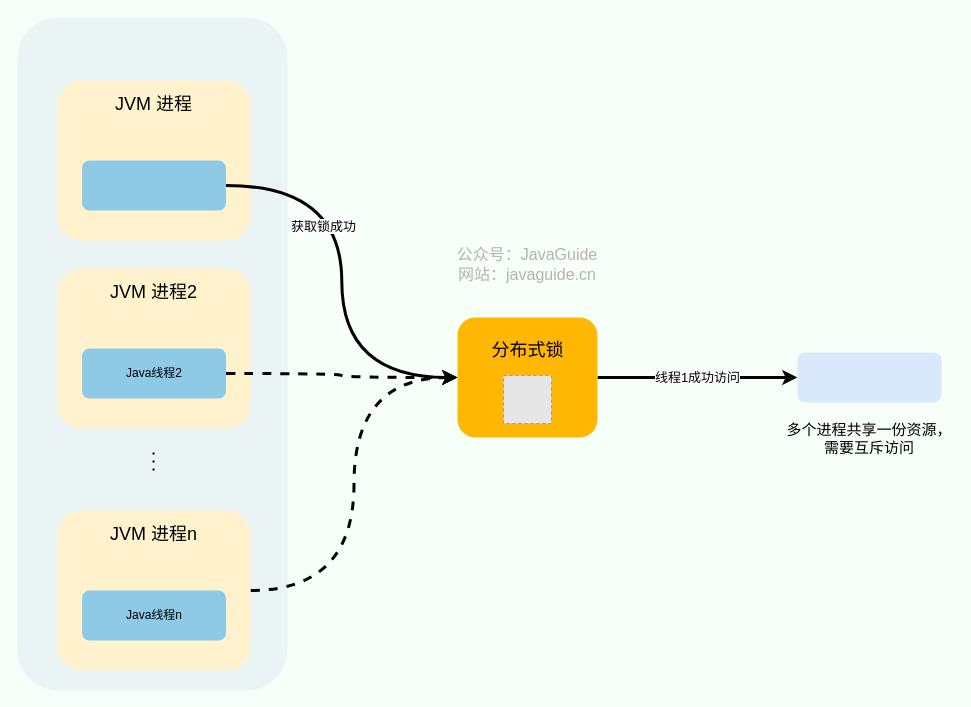
This 971x707 diagram has some shape labels left out. Grey dashed boxes stand in for pictures. The shapes that lost their labels are listed below. From the top down, each one's centre as x and y in pixels, then its label:
At point (154, 185): "Java线程1".
At point (869, 377): "共享资源".
